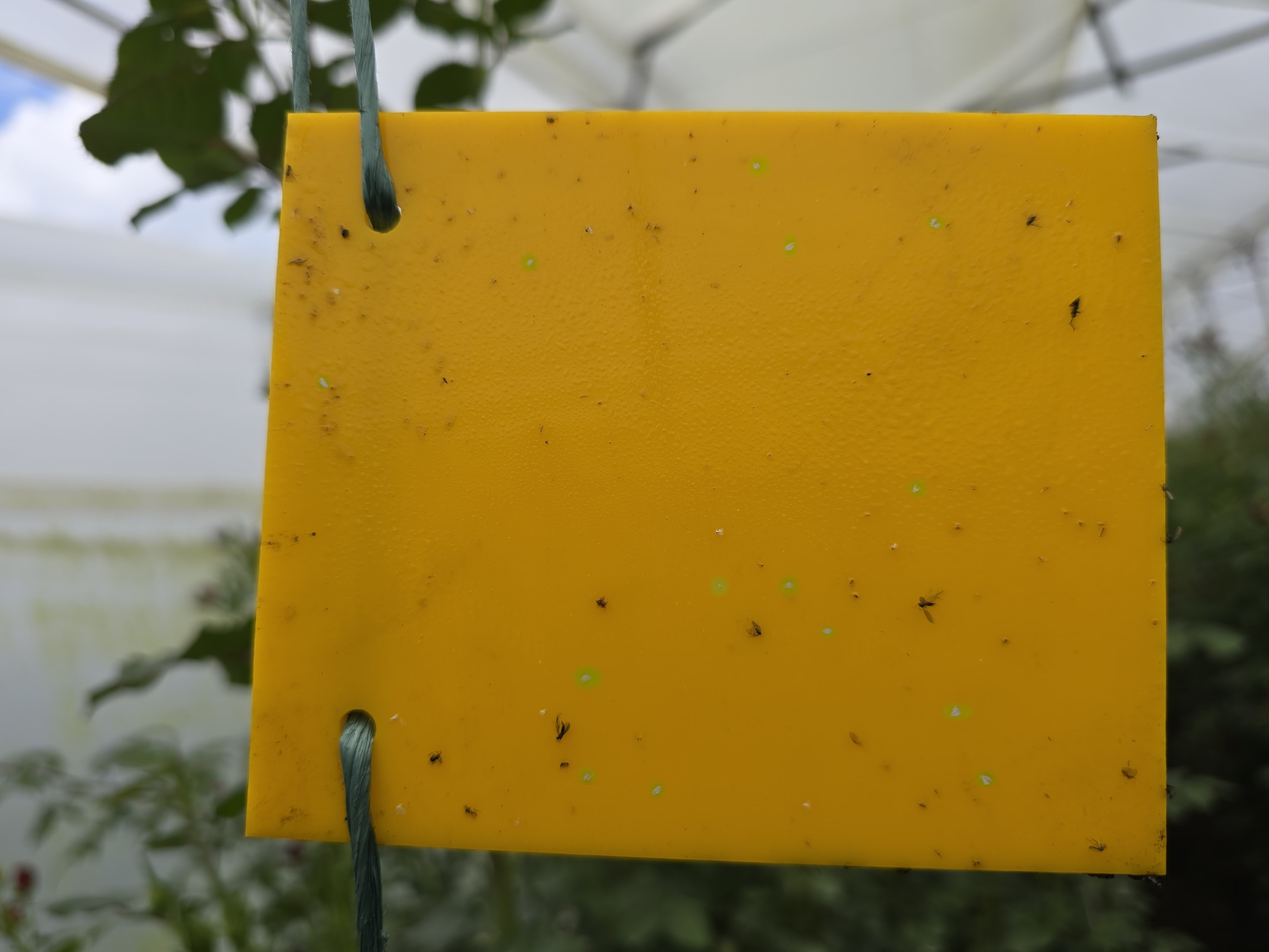WF: (576, 669, 598, 686), (945, 705, 968, 718), (750, 158, 767, 174), (781, 578, 797, 593), (977, 772, 994, 785), (910, 481, 924, 496), (785, 237, 796, 255), (712, 579, 726, 593), (522, 255, 536, 269), (580, 769, 594, 782), (650, 783, 663, 796), (928, 217, 943, 228), (801, 801, 813, 813), (822, 626, 834, 637), (318, 376, 329, 388), (585, 225, 595, 238), (537, 707, 548, 717), (332, 288, 345, 296), (715, 528, 725, 538), (389, 714, 401, 722), (890, 542, 898, 552)
